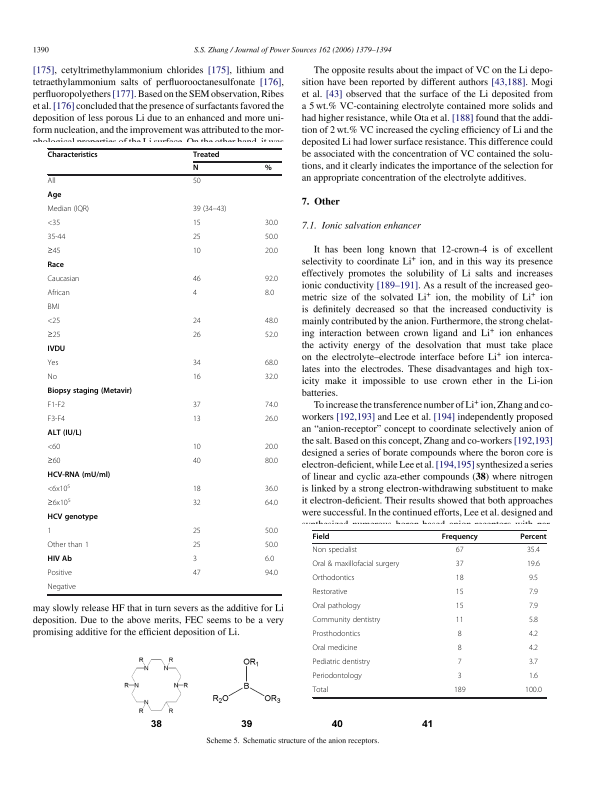borderless: (46, 147, 281, 594), (311, 529, 546, 697)
cell: (312, 560, 400, 570), (47, 387, 133, 397), (312, 616, 381, 626), (47, 471, 111, 481), (312, 658, 371, 668), (47, 513, 99, 523), (312, 672, 363, 682), (312, 602, 361, 612), (312, 630, 361, 640), (47, 151, 99, 160), (312, 546, 358, 556), (312, 644, 358, 654), (312, 574, 355, 584), (47, 205, 90, 215), (47, 541, 90, 551), (312, 588, 348, 598), (47, 429, 83, 439), (192, 205, 227, 215), (441, 533, 479, 542), (47, 275, 80, 285), (47, 583, 77, 593), (47, 498, 72, 509), (47, 484, 71, 495), (47, 555, 73, 565), (47, 569, 73, 579), (519, 533, 547, 542), (192, 151, 220, 160), (47, 289, 71, 299), (524, 686, 543, 696), (47, 233, 66, 243), (47, 345, 66, 355), (47, 401, 66, 411), (47, 415, 66, 425), (47, 261, 65, 271), (312, 686, 329, 696), (312, 533, 330, 542), (526, 546, 541, 556), (526, 560, 541, 570), (47, 191, 62, 201), (264, 219, 279, 229), (264, 233, 279, 243), (264, 247, 279, 257), (264, 275, 279, 285), (264, 317, 279, 327), (264, 331, 279, 341), (264, 359, 279, 369), (264, 373, 279, 383), (264, 401, 279, 411), (264, 415, 279, 425), (264, 443, 279, 453), (264, 457, 279, 467), (264, 485, 279, 495), (264, 499, 279, 509), (264, 527, 279, 537), (264, 541, 279, 551), (264, 569, 279, 579), (47, 219, 61, 229), (47, 247, 61, 257), (47, 317, 61, 327), (47, 331, 61, 341), (47, 443, 61, 453), (47, 457, 61, 467), (453, 686, 466, 696), (47, 303, 60, 313), (47, 359, 59, 369), (528, 574, 539, 584), (528, 588, 539, 598), (528, 602, 539, 612), (528, 616, 539, 626), (528, 630, 539, 640), (528, 644, 539, 654), (528, 658, 539, 668), (528, 672, 539, 682), (264, 289, 275, 299), (47, 373, 58, 383), (264, 555, 275, 565), (192, 177, 202, 187), (192, 219, 202, 229), (192, 233, 202, 243), (192, 247, 202, 257), (192, 275, 202, 285), (192, 317, 202, 327), (192, 331, 202, 341), (192, 359, 202, 369), (192, 373, 202, 383), (192, 401, 202, 411), (192, 415, 202, 425), (192, 443, 202, 453), (192, 457, 202, 467), (192, 485, 202, 495), (192, 499, 202, 509), (192, 527, 202, 537), (192, 541, 202, 551), (192, 569, 202, 579), (455, 546, 464, 556), (455, 560, 464, 570), (455, 574, 464, 584), (455, 588, 464, 598), (455, 602, 464, 612), (455, 616, 464, 626), (264, 164, 273, 174), (47, 177, 56, 187), (192, 164, 199, 174), (457, 630, 463, 640), (457, 644, 463, 654), (457, 658, 463, 668), (457, 672, 463, 682), (192, 289, 198, 299), (192, 555, 198, 565), (47, 527, 52, 537)
